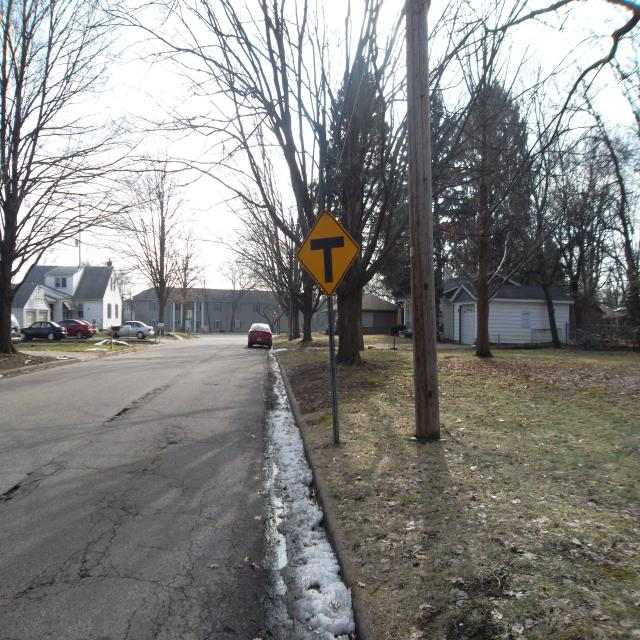warning: (296, 206, 361, 299)
